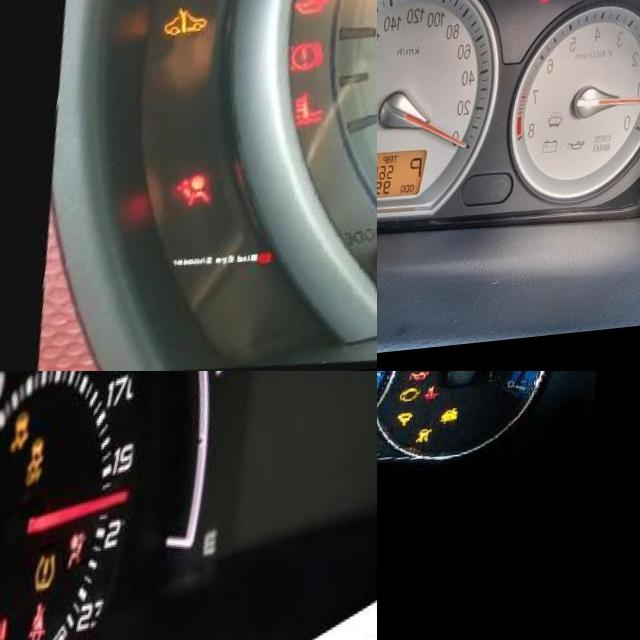Doors: (548, 0, 568, 12)
Engine cooling system: (289, 101, 334, 144)
High Engine Coolant Temperature: (439, 394, 454, 409)
